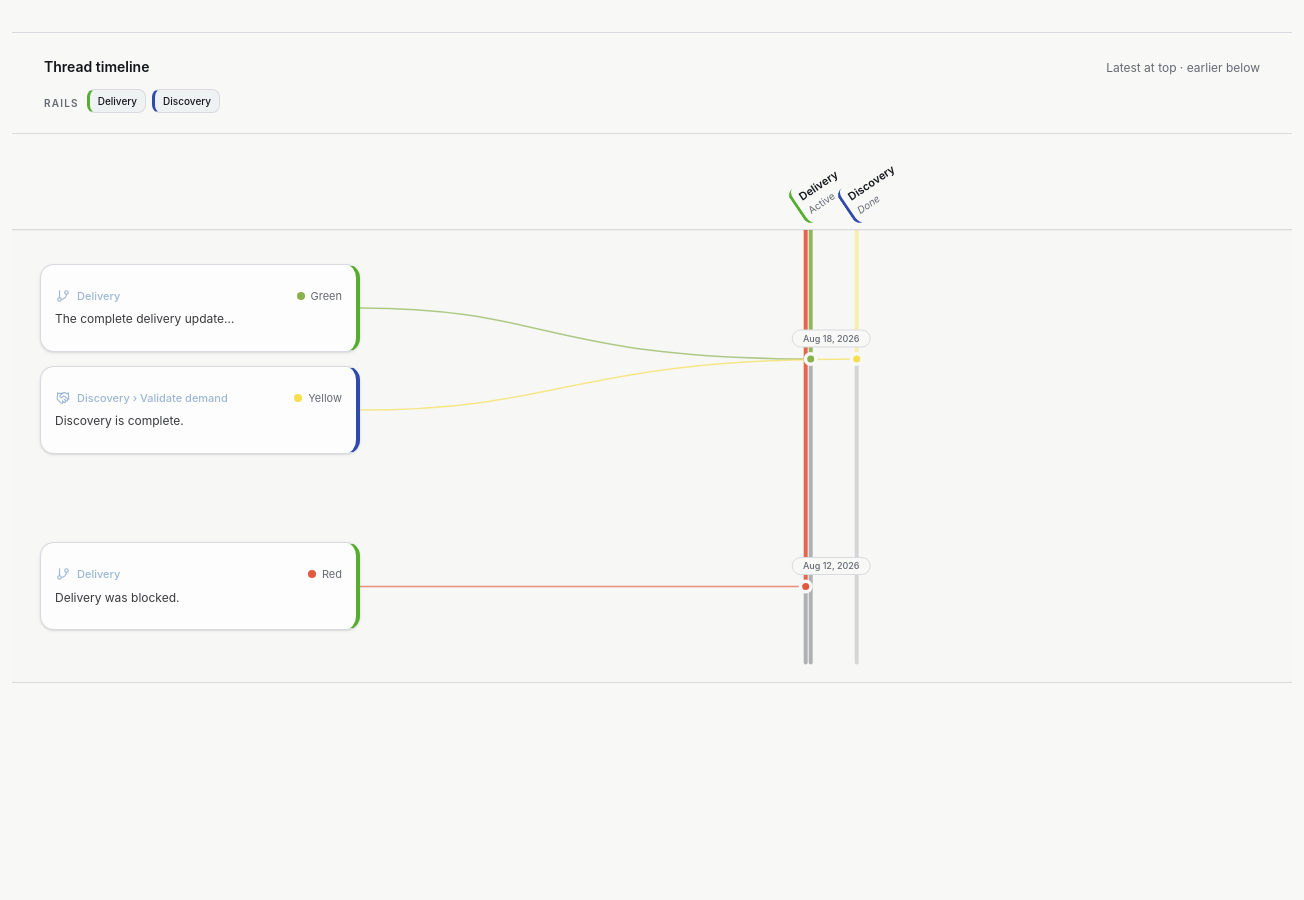
Test: FocusOverviewTimeline › keeps filtered rails in place while hiding their update evidence
expect the text "Delivery was blocked." is shown: met, box x1=55 y1=590 x2=180 y2=604
expect the text "The complete delivery update…" is shown: met, box x1=55 y1=311 x2=234 y2=326
Click the button with aria-label "Delivery timeline rail".
click(116, 101)  # box x1=87 y1=89 x2=146 y2=113
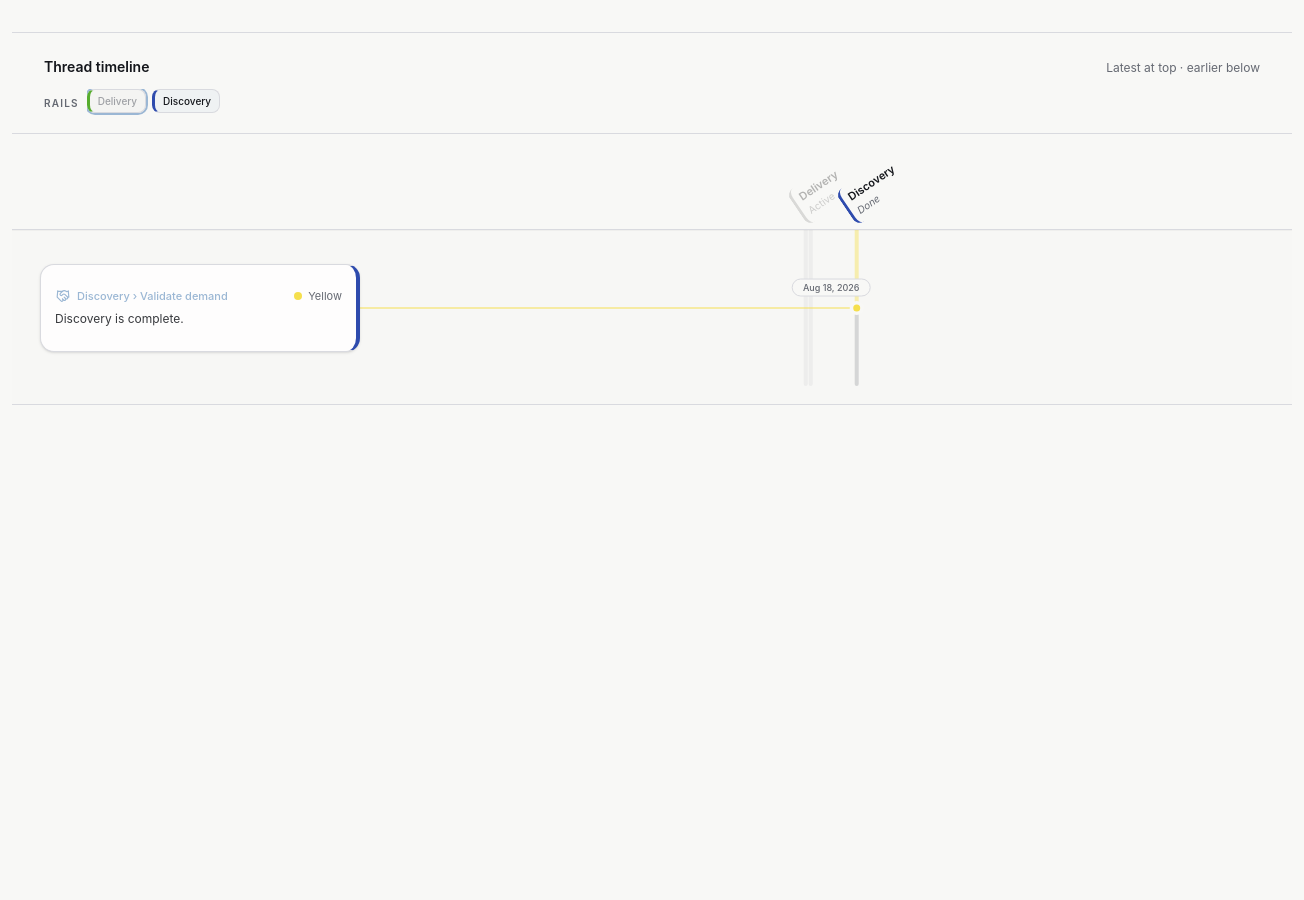
expect the text "Discovery is complete." is shown: met, box x1=55 y1=311 x2=184 y2=326
expect the button "Delivery was blocked." is gone: met
expect the button "The complete delivery update…" is gone: met
Click the button with aria-label "Delivery timeline rail".
click(116, 101)  # box x1=87 y1=89 x2=146 y2=113
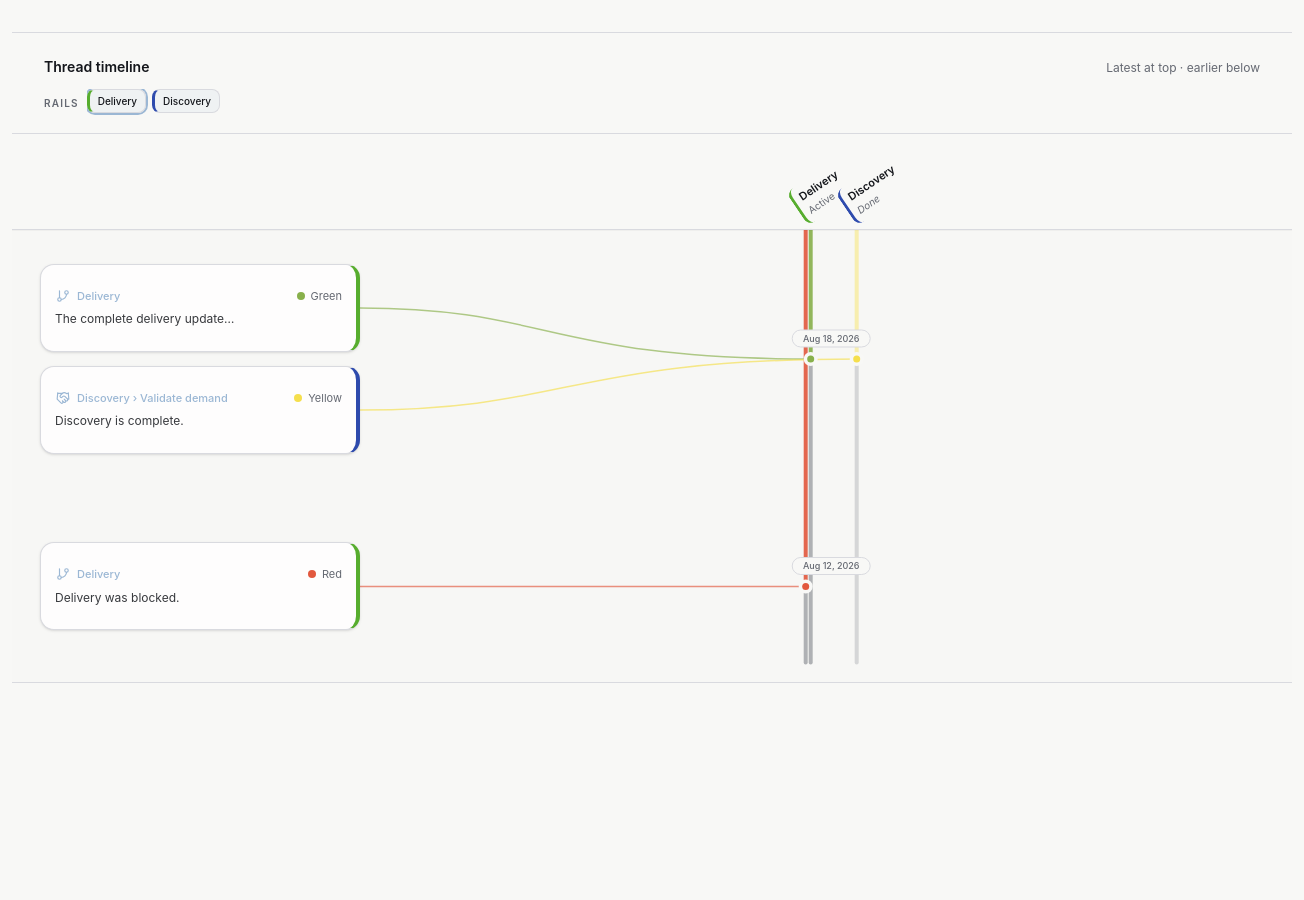
expect the text "Delivery was blocked." is shown: met, box x1=55 y1=590 x2=180 y2=604
expect the text "The complete delivery update…" is shown: met, box x1=55 y1=311 x2=234 y2=326
